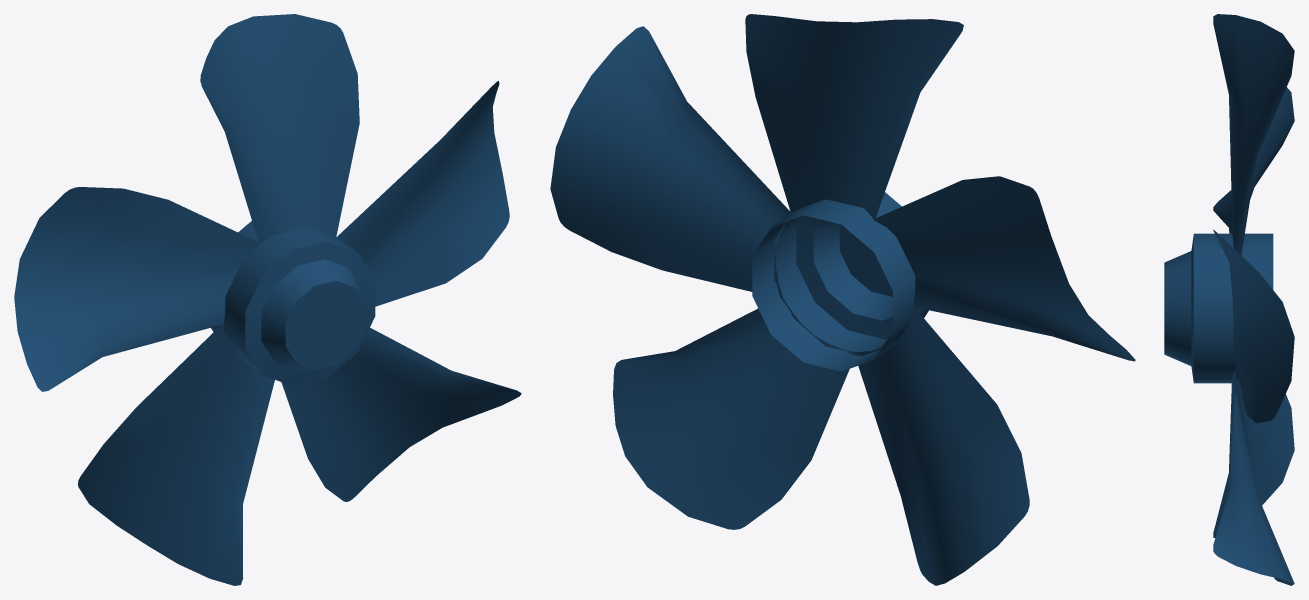
File: bottom_house_fan.glb
3 renders of one model, left to right at view 1: azimuth 30°, elevation 25°; view 2: azimuth 150°, elevation 25°; view 3: azimuth 270°, elevation 25°, orthographic. The views are drawn at different scales.
Visible parts, largest first — view 1: Cube.001; view 2: Cube.001; view 3: Cube.001.
Part boxes in pixels (x1,y1,x2,y2): Cube.001: [14, 14, 521, 585]; Cube.001: [550, 14, 1135, 585]; Cube.001: [1164, 14, 1294, 585].
Size of the model in its own units: 2.99 by 2.99 by 0.6846.
